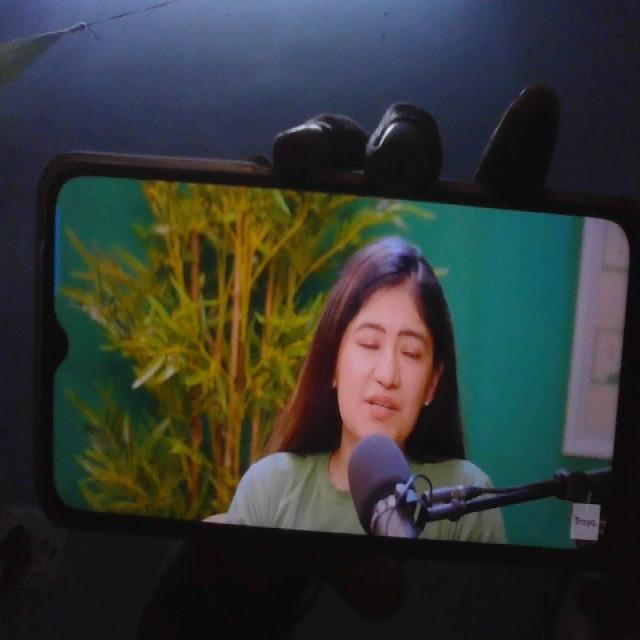fake: (327, 233, 441, 448)
